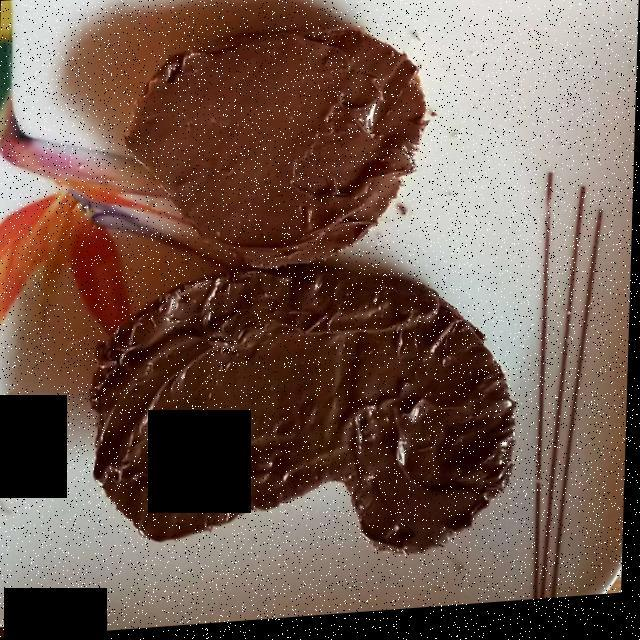bread: (88, 28, 508, 552)
nutella: (115, 55, 518, 522)
